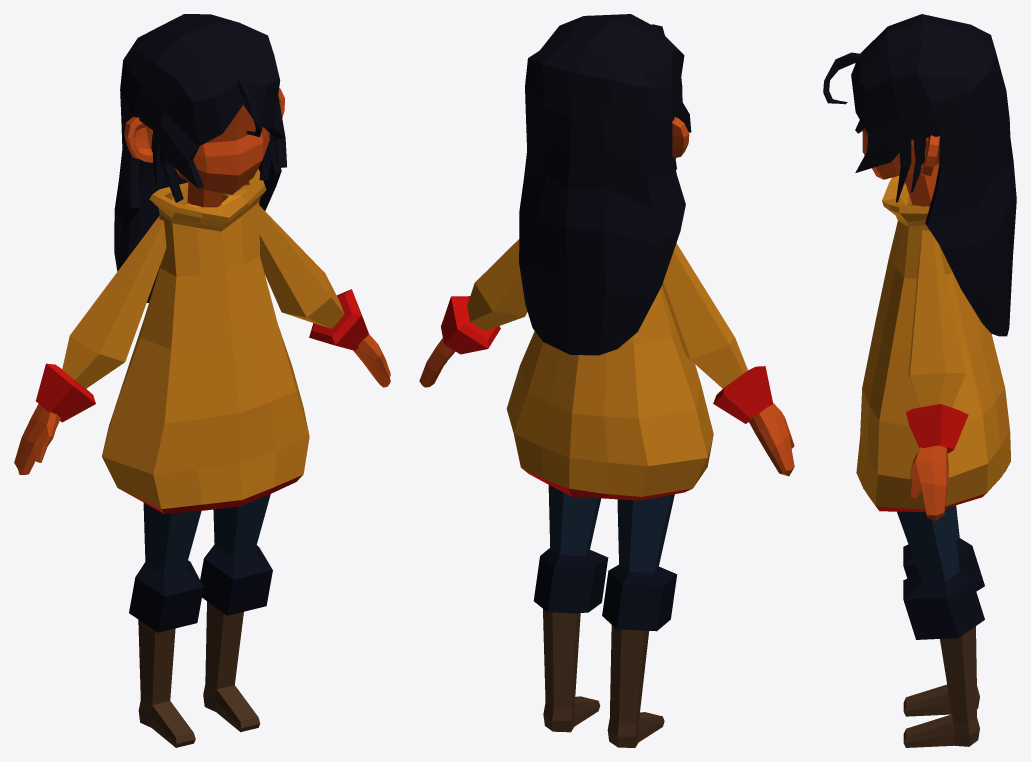
Rendered from lowpolygirl.obj.
3 renders of one model, left to right at view 1: azimuth 30°, elevation 25°; view 2: azimuth 150°, elevation 25°; view 3: azimuth 270°, elevation 25°, orthographic.
Visible parts, largest first — view 1: body, hair, legs, arms, head, hands, Cube, neck; view 2: hair, body, legs, arms, hands; view 3: hair, body, legs, arms, hands, neck, head, hairtail, Cube.
Boxes of the visible parts, x1,y1,x2,y2 form: body: (102, 169, 309, 513); hair: (114, 14, 286, 302); legs: (129, 494, 272, 747); arms: (36, 205, 368, 422); head: (175, 105, 269, 194); hands: (14, 334, 390, 474); Cube: (124, 88, 284, 162); neck: (187, 182, 223, 207); hair: (519, 14, 691, 355); body: (506, 286, 713, 500); legs: (533, 485, 677, 747); arms: (441, 239, 772, 423); hands: (419, 338, 794, 476); hair: (851, 14, 1016, 336); body: (856, 176, 1010, 511); legs: (897, 505, 984, 747); arms: (906, 230, 968, 453); hands: (910, 445, 948, 520); neck: (905, 164, 939, 206); head: (862, 128, 939, 179); hairtail: (823, 52, 862, 104); Cube: (920, 135, 939, 176).
Size of the model in its own units: 2.08 by 3.81 by 0.9492.
